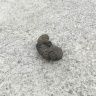Dog: (37, 34, 63, 60)
